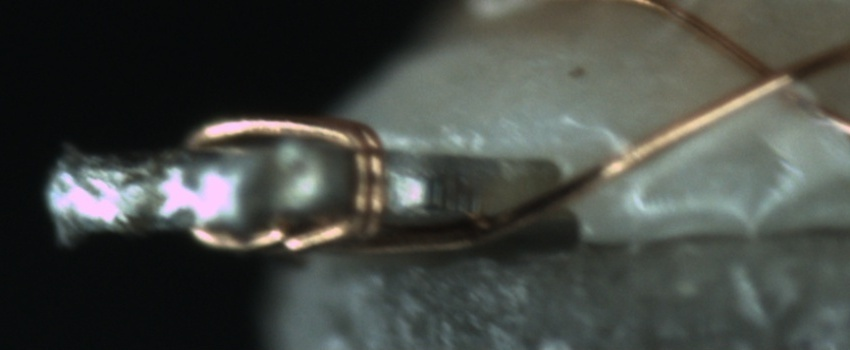CL: (723, 43, 820, 111)
TE: (185, 95, 399, 248)
